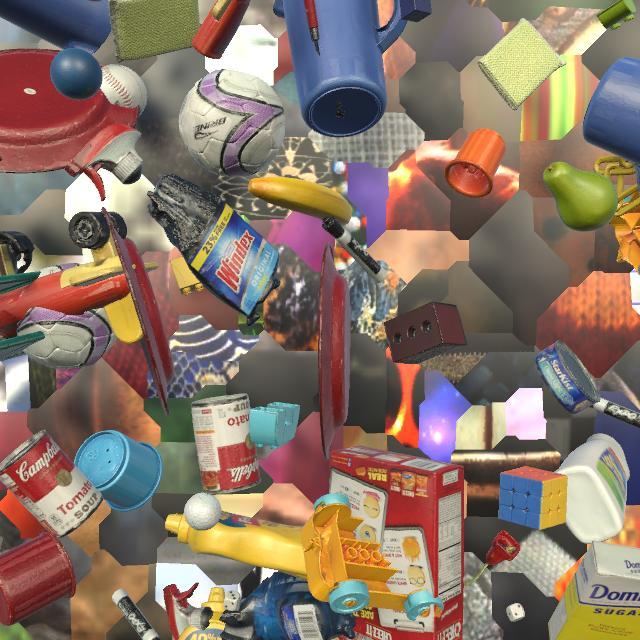ycb_003_cracker_box: (329, 445, 464, 640)
ycb_004_sugar_box: (548, 541, 640, 640)
ycb_005_tomato_soup_can: (0, 430, 103, 538), (191, 393, 261, 494), (332, 631, 374, 640)
ycb_006_mustard_bottle: (165, 510, 307, 580), (178, 587, 226, 640)
ycb_007_tuna_fish_can: (535, 340, 600, 414)
ycb_011_banana: (248, 177, 352, 226)
ycb_016_pear: (543, 161, 618, 232)
